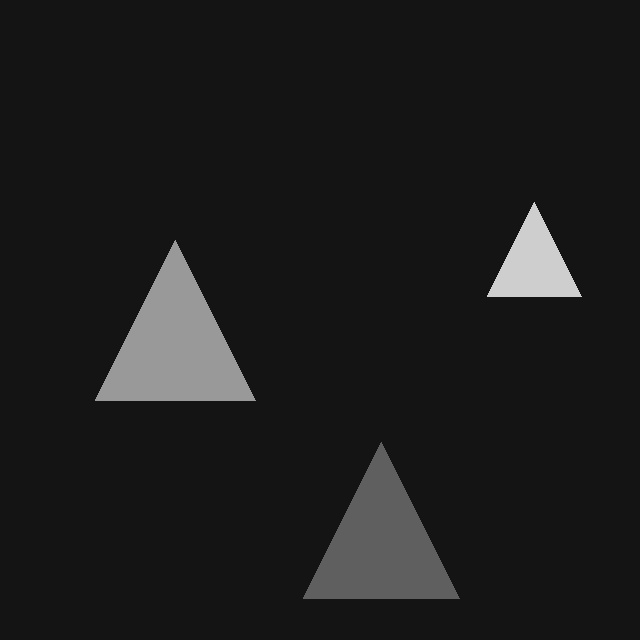triangle: (95, 240, 255, 400), (303, 442, 459, 598), (487, 202, 581, 296)
